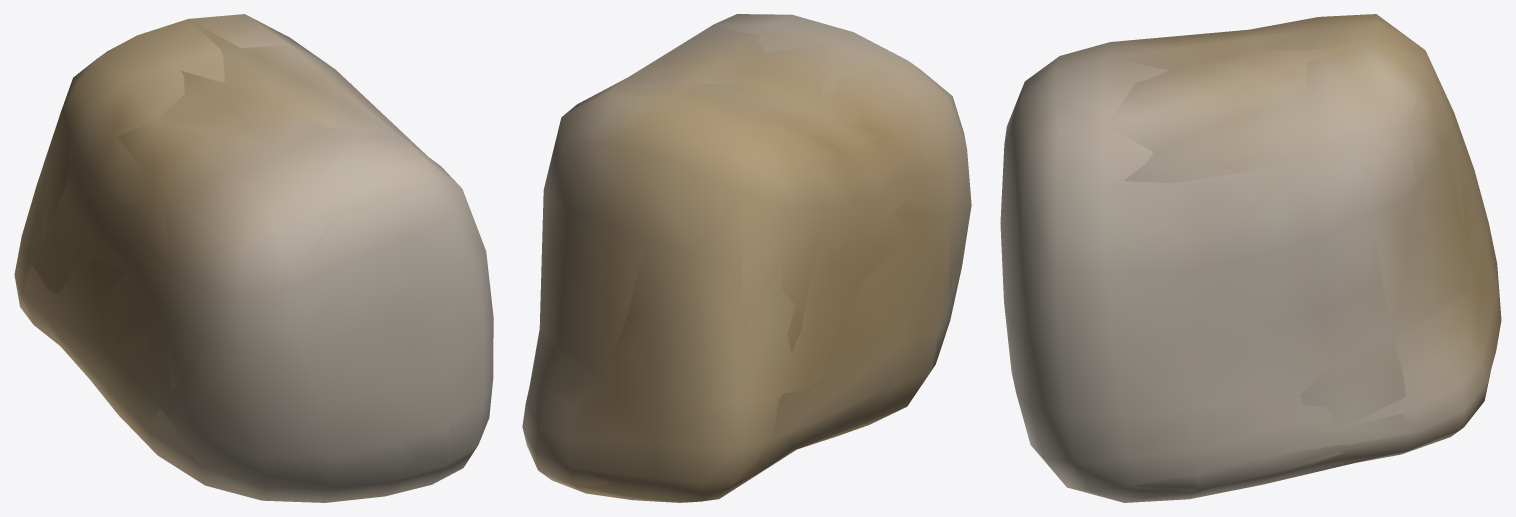
The model's file is L carpale quartum.fbx.
3 renders of one model, left to right at view 1: azimuth 30°, elevation 25°; view 2: azimuth 150°, elevation 25°; view 3: azimuth 270°, elevation 25°, orthographic. The views are drawn at different scales.
Parts seen in each view (by area): view 1: L carpale quartum, L carpale quartum low; view 2: L carpale quartum, L carpale quartum low; view 3: L carpale quartum, L carpale quartum low.
Boxes of the visible parts, x1,y1,x2,y2 form: L carpale quartum: (14,14,493,502); L carpale quartum low: (14,19,485,485); L carpale quartum: (522,14,971,502); L carpale quartum low: (525,14,971,498); L carpale quartum: (1000,14,1501,502); L carpale quartum low: (1005,16,1490,502).
Bounding box in the file's own units: 0.9197 × 1.04 × 1.19.
